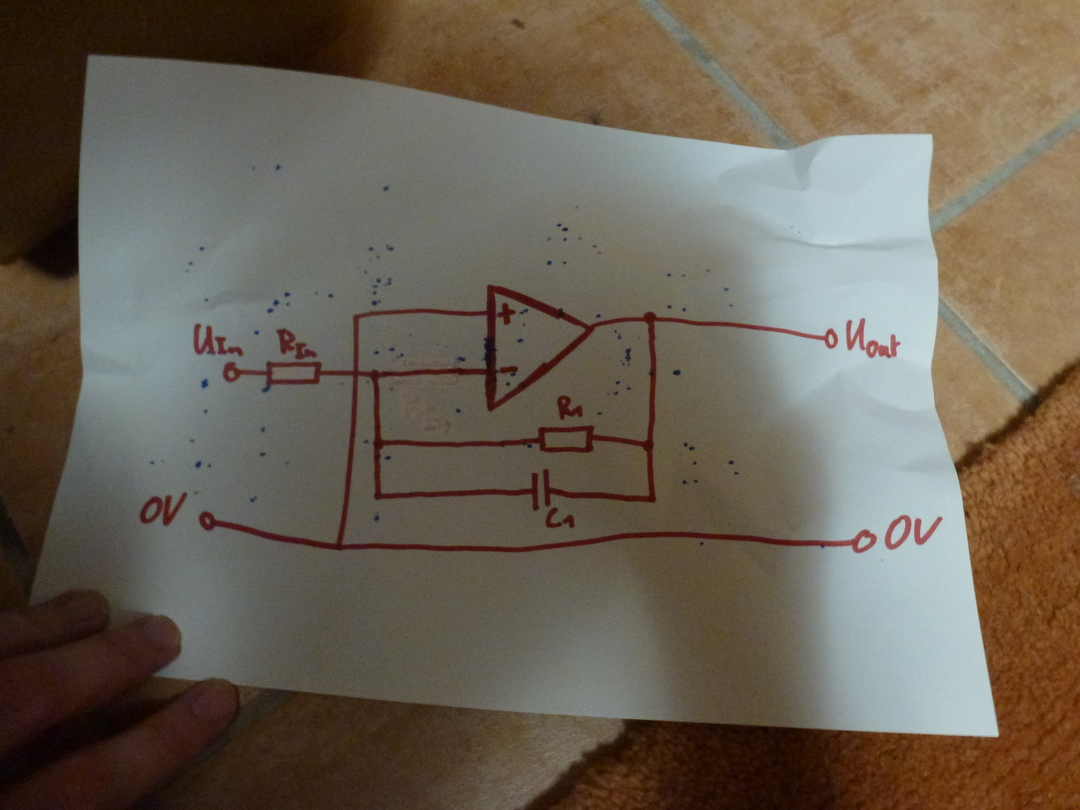capacitor.unpolarized: (528, 467, 554, 511)
crossover: (350, 365, 363, 381)
junction: (642, 310, 659, 326), (641, 437, 656, 453), (371, 437, 386, 451), (368, 368, 382, 382), (372, 490, 386, 504), (333, 539, 345, 554), (646, 492, 658, 506), (351, 313, 363, 324)
operational_amplifier: (484, 283, 595, 413)
resistor: (536, 423, 597, 455), (263, 360, 324, 387)
terminal: (848, 528, 878, 554), (220, 360, 242, 384), (198, 509, 218, 533), (822, 327, 841, 351)
text: (843, 317, 901, 360), (882, 513, 944, 552), (191, 322, 245, 358), (139, 492, 188, 528), (275, 327, 318, 360), (555, 394, 585, 422), (544, 507, 577, 530)
